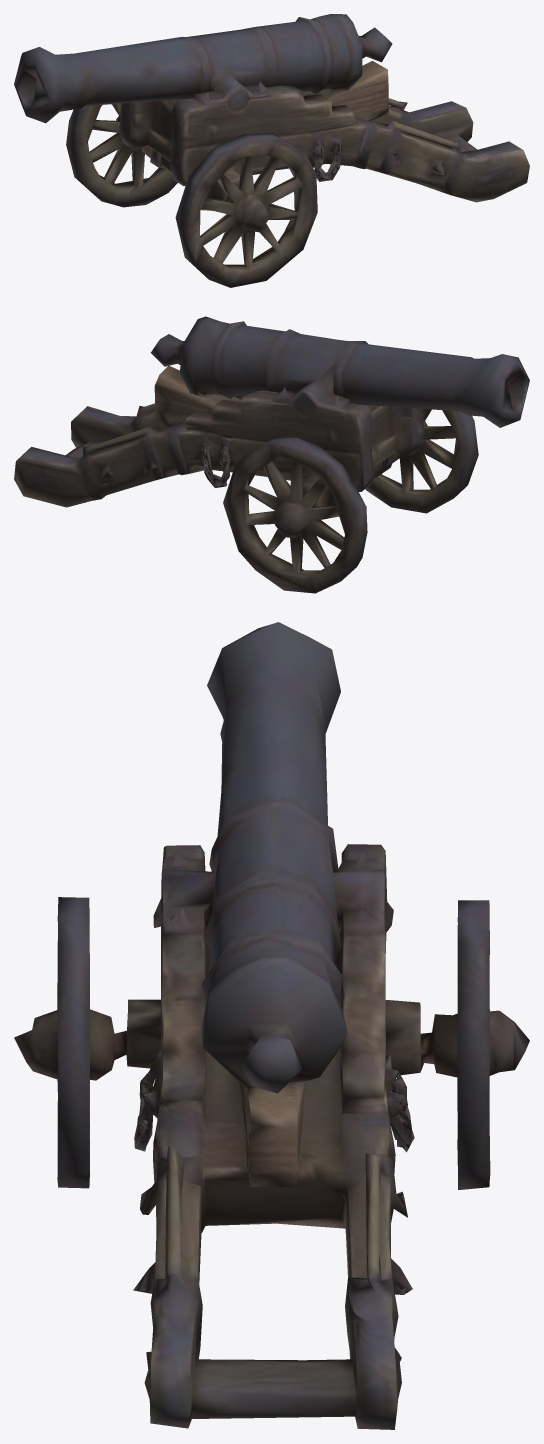
The model's file is cannon.glb.
3 renders of one model, top to bottom at view 1: azimuth 30°, elevation 25°; view 2: azimuth 150°, elevation 25°; view 3: azimuth 270°, elevation 25°, orthographic. The views are drawn at different scales.
Visible parts, largest first — view 1: tripo_node_c192d435-ce15-421c-9529-0adc09203736; view 2: tripo_node_c192d435-ce15-421c-9529-0adc09203736; view 3: tripo_node_c192d435-ce15-421c-9529-0adc09203736.
Part boxes in pixels (x1,y1,x2,y2): tripo_node_c192d435-ce15-421c-9529-0adc09203736: (14, 14, 529, 287); tripo_node_c192d435-ce15-421c-9529-0adc09203736: (14, 316, 529, 593); tripo_node_c192d435-ce15-421c-9529-0adc09203736: (14, 622, 529, 1429).
Size of the model in its own units: 0.9802 by 0.4624 by 0.512.
1 material, 1 textured.
